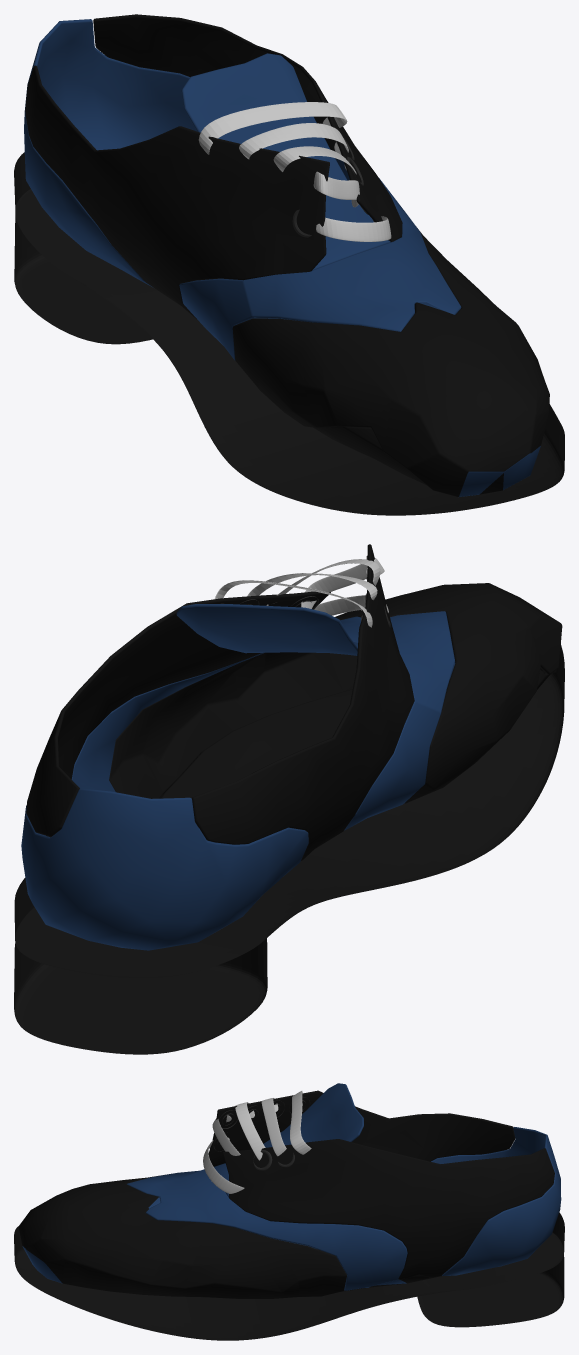
File: za2pri2izquierda.fbx
3 views of the same model, one above another, from view 1: azimuth 30°, elevation 25°; view 2: azimuth 150°, elevation 25°; view 3: azimuth 270°, elevation 25° (orthographic). The views are drawn at different scales.
Parts seen in each view (by area): view 1: zapato2, Plane, Plane.004, Plane.003, Plane.005, Plane.002, Plane.001; view 2: zapato2, Plane, Plane.002, Plane.003, Plane.005, Plane.004; view 3: zapato2, Plane, Plane.001, Plane.003, Plane.004, Plane.005, Plane.002.
Part boxes in pixels (x1,y1,x2,y2): zapato2: (24, 14, 549, 497); Plane: (14, 152, 564, 515); Plane.004: (198, 102, 347, 154); Plane.003: (239, 123, 348, 159); Plane.005: (316, 216, 391, 241); Plane.002: (313, 171, 359, 207); Plane.001: (273, 146, 356, 174); zapato2: (21, 544, 562, 950); Plane: (14, 644, 564, 1054); Plane.002: (301, 558, 384, 608); Plane.003: (247, 573, 377, 610); Plane.005: (314, 595, 388, 615); Plane.004: (215, 580, 372, 627); zapato2: (18, 1083, 561, 1298); Plane: (14, 1212, 564, 1340); Plane.001: (235, 1102, 265, 1160); Plane.003: (261, 1098, 286, 1156); Plane.004: (290, 1091, 311, 1154); Plane.005: (203, 1137, 244, 1193); Plane.002: (212, 1115, 240, 1155).
Size of the model in its own units: 169 by 176 by 447.
